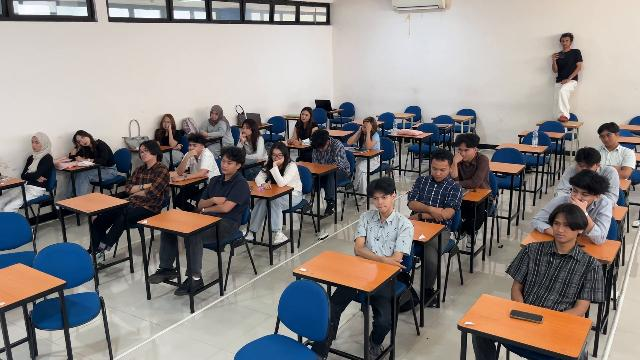bingung: (553, 219, 572, 242), (373, 194, 391, 212), (431, 162, 447, 181), (571, 187, 591, 201), (221, 157, 234, 174), (600, 132, 615, 146), (458, 147, 472, 160), (139, 146, 151, 161), (76, 135, 90, 146), (32, 136, 42, 151), (272, 151, 283, 160), (189, 142, 199, 151), (301, 111, 309, 122), (163, 117, 170, 129), (242, 125, 251, 134), (211, 111, 218, 120)
